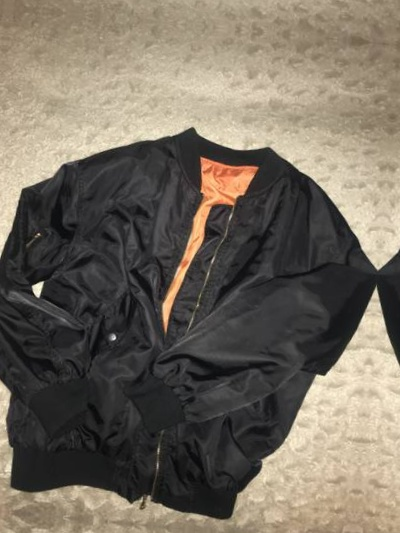Blazer: (0, 109, 384, 532), (360, 146, 400, 533), (0, 522, 344, 533)
